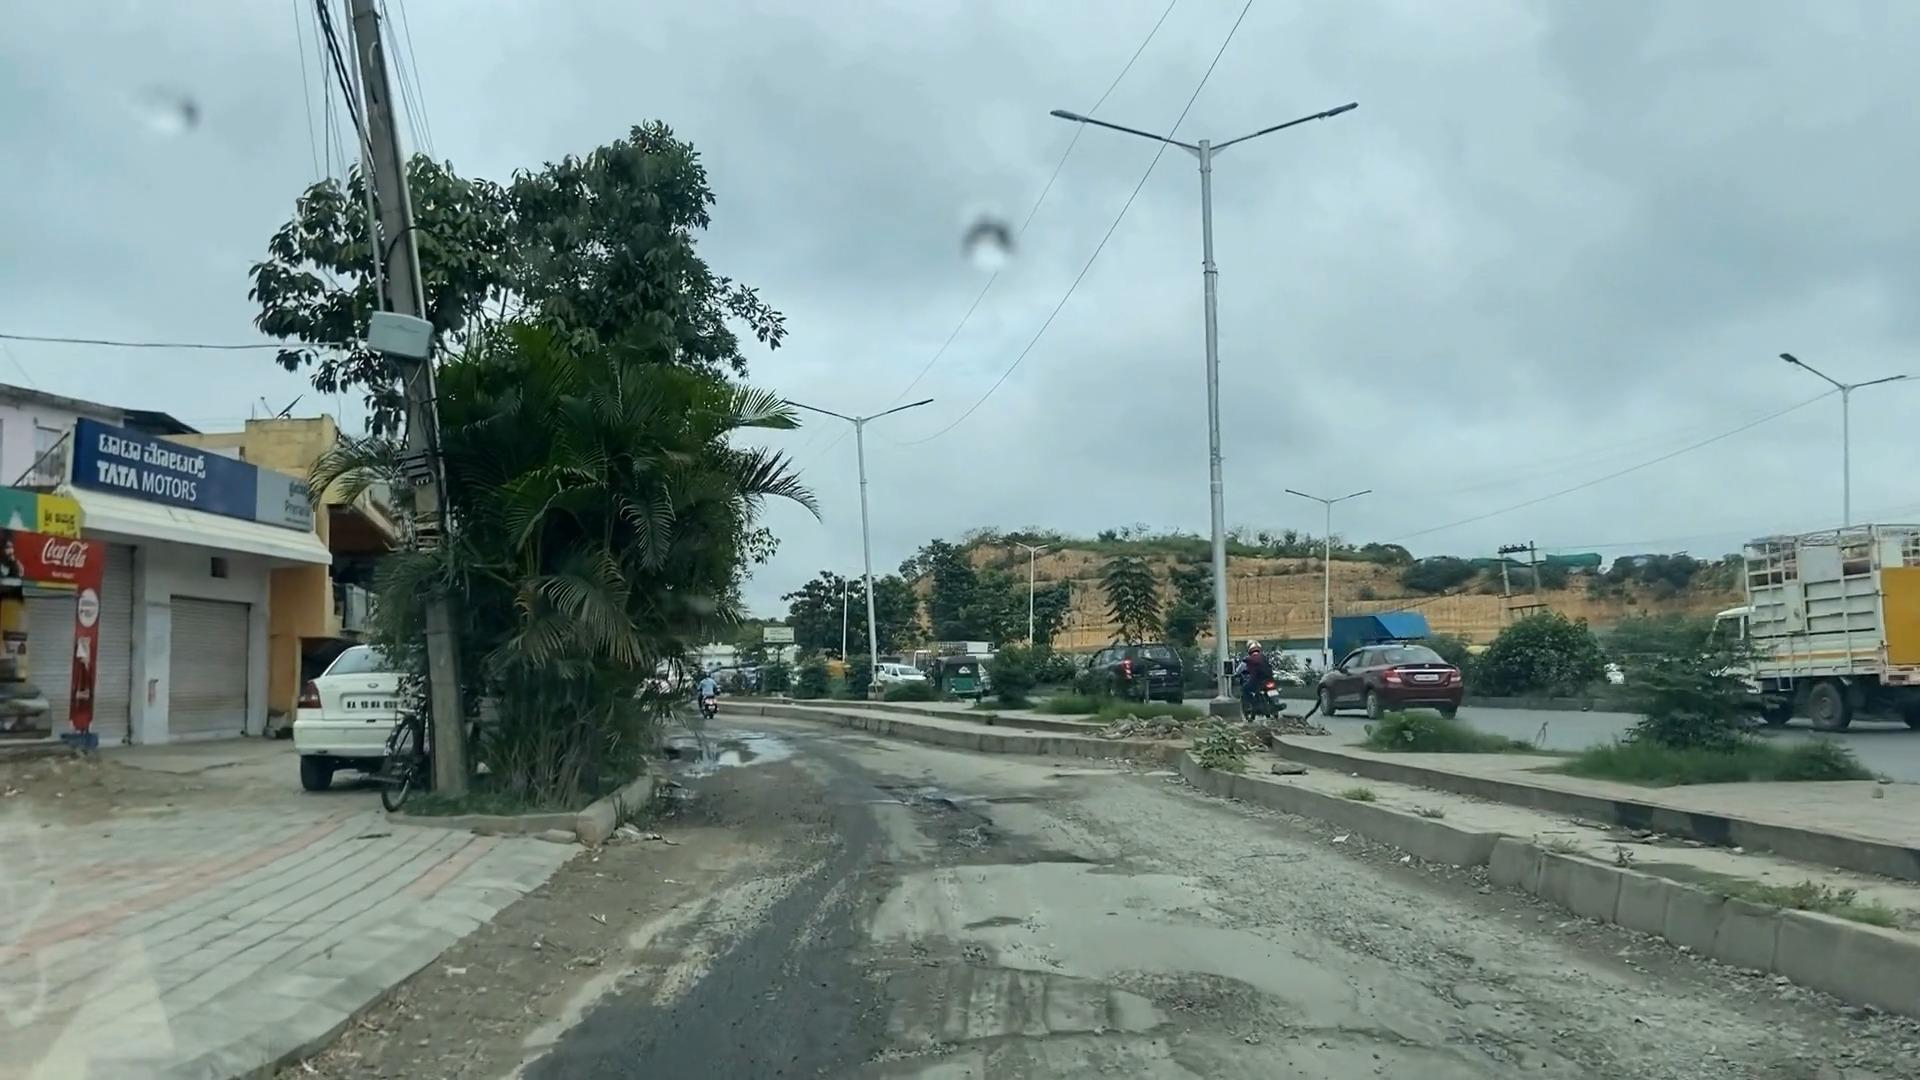RoadDamages: (1250, 914, 1903, 1080), (864, 934, 1249, 1080), (870, 766, 1127, 932)
